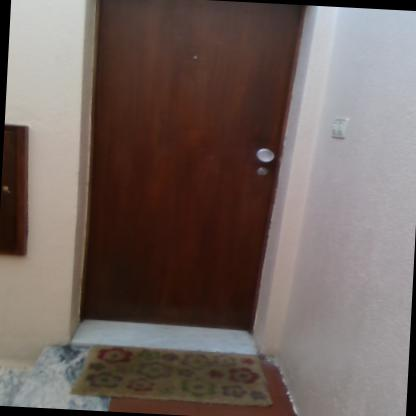closed: (46, 0, 316, 342)
